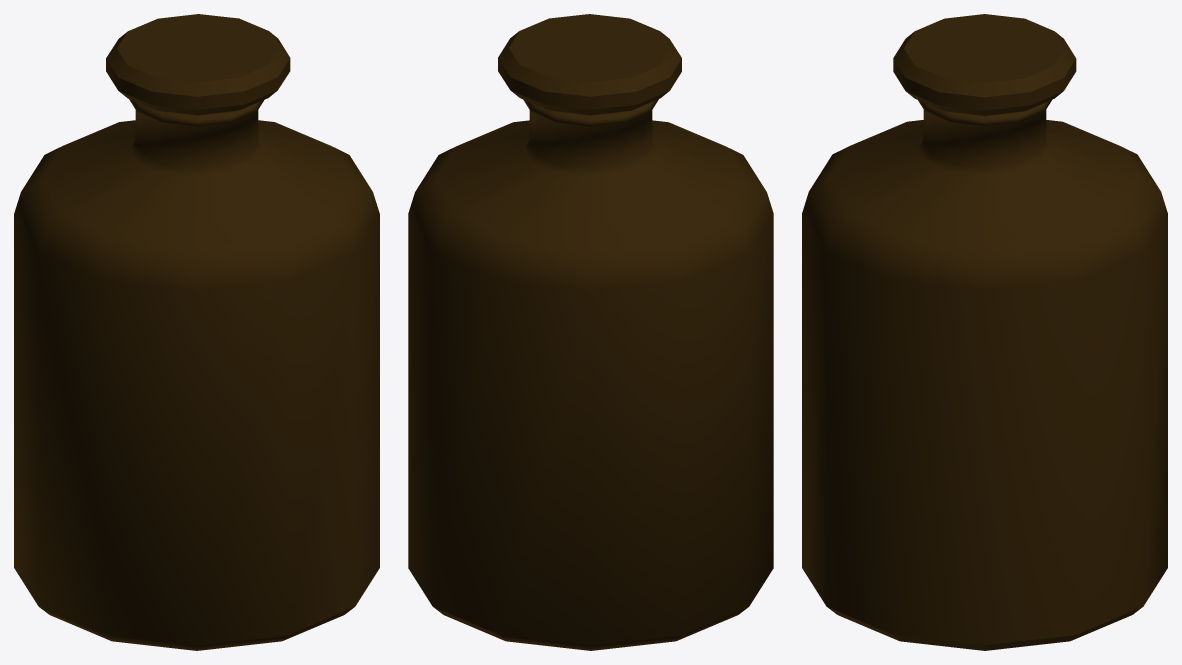
The model's file is chemical_jar_C60ml.FBX.
3 renders of one model, left to right at view 1: azimuth 30°, elevation 25°; view 2: azimuth 150°, elevation 25°; view 3: azimuth 270°, elevation 25°, orthographic.
Parts seen in each view (by area): view 1: chemical_jar_C60ml; view 2: chemical_jar_C60ml; view 3: chemical_jar_C60ml.
Boxes of the visible parts, x1,y1,x2,y2 form: chemical_jar_C60ml: (14,14,379,650); chemical_jar_C60ml: (408,14,773,650); chemical_jar_C60ml: (802,14,1167,650).
Size of the model in its own units: 4.76 by 7.62 by 4.76.
